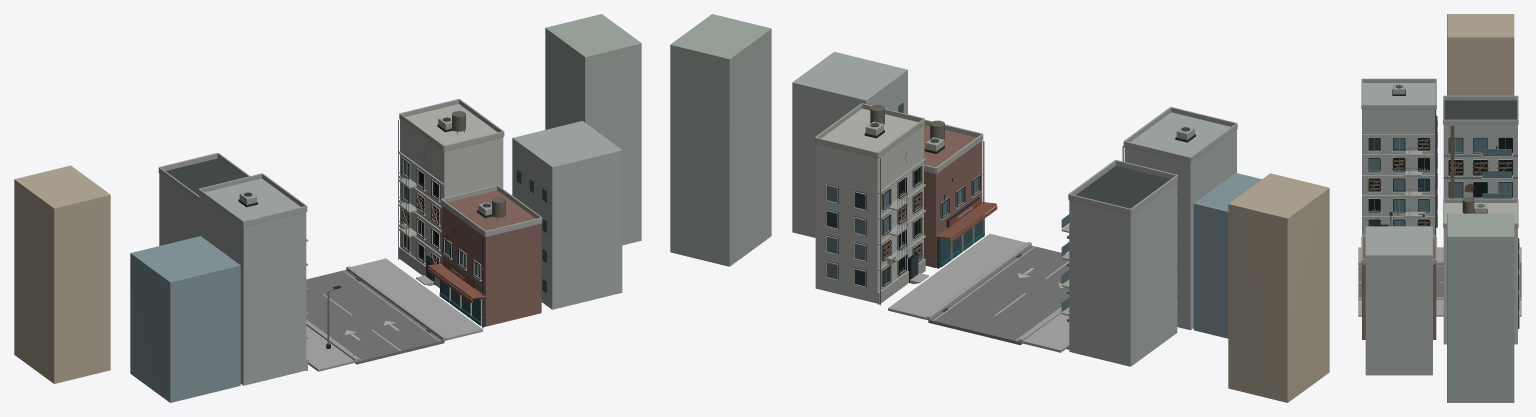
The model's file is city_hd_08.glb.
3 renders of one model, left to right at view 1: azimuth 30°, elevation 25°; view 2: azimuth 150°, elevation 25°; view 3: azimuth 270°, elevation 25°, orthographic. The views are drawn at different scales.
Visible parts, largest first — view 1: CITY_realwall_a9b0ae, Background city building.001, Background city building, Background city building.003, Mixed use shop volume, Masonry apartment volume.001, CITY_PBR_asphalt, CITY_trim, CITY_PBR_pavement, CITY_recess, CITY_roof, CITY_frame (+5 smaller); view 2: CITY_realwall_a9b0ae, Background city building.003, Background city building.001, Masonry apartment volume.001, CITY_PBR_asphalt, CITY_trim, Background city building, CITY_PBR_pavement, Mixed use shop volume, CITY_frame, CITY_recess, CITY_roof (+7 smaller); view 3: CITY_realwall_a9b0ae, Background city building.003, Background city building.001, CITY_trim, CITY_glass, CITY_recess, Masonry apartment volume.001, CITY_roof, CITY_window_void, CITY_frame, CITY_wood_panel, Mixed use shop volume (+8 smaller).
Boxes of the visible parts, box(x1,y1,x2,y2) form: CITY_realwall_a9b0ae: box(159, 121, 622, 385); Background city building.001: box(14, 165, 110, 383); Background city building: box(130, 236, 240, 402); Background city building.003: box(545, 14, 641, 245); Mixed use shop volume: box(441, 190, 541, 326); Masonry apartment volume.001: box(400, 104, 503, 275); CITY_PBR_asphalt: box(306, 270, 444, 364); CITY_trim: box(158, 99, 542, 370); CITY_PBR_pavement: box(306, 258, 482, 371); CITY_recess: box(401, 158, 481, 284); CITY_roof: box(165, 158, 243, 227); CITY_frame: box(402, 158, 482, 325); CITY_realwall_a9b0ae: box(792, 52, 1236, 366); Background city building.003: box(670, 14, 771, 266); Background city building.001: box(1228, 173, 1329, 402); Masonry apartment volume.001: box(815, 108, 923, 303); CITY_PBR_asphalt: box(928, 245, 1069, 345); CITY_trim: box(814, 103, 1237, 315); Background city building: box(1193, 173, 1261, 338); CITY_PBR_pavement: box(888, 233, 1069, 352); Mixed use shop volume: box(924, 125, 982, 267); CITY_frame: box(825, 165, 1178, 313); CITY_recess: box(826, 165, 1178, 313); CITY_roof: box(877, 158, 1190, 215); CITY_realwall_a9b0ae: box(1362, 83, 1517, 375); Background city building.003: box(1447, 213, 1514, 402); Background city building.001: box(1447, 14, 1514, 95); CITY_trim: box(1361, 78, 1518, 264); CITY_glass: box(1369, 138, 1512, 226); CITY_recess: box(1368, 115, 1518, 328); Masonry apartment volume.001: box(1443, 203, 1517, 344); CITY_roof: box(1362, 100, 1517, 228); CITY_window_void: box(1369, 138, 1512, 225); CITY_frame: box(1368, 116, 1519, 328); CITY_wood_panel: box(1367, 125, 1513, 226); Mixed use shop volume: box(1362, 240, 1436, 339).
Bounding box in the file's own units: 56 × 18.26 × 16.
